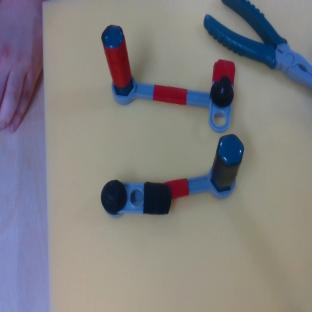non_pass: (93, 131, 256, 233)
pass: (84, 22, 247, 137)
